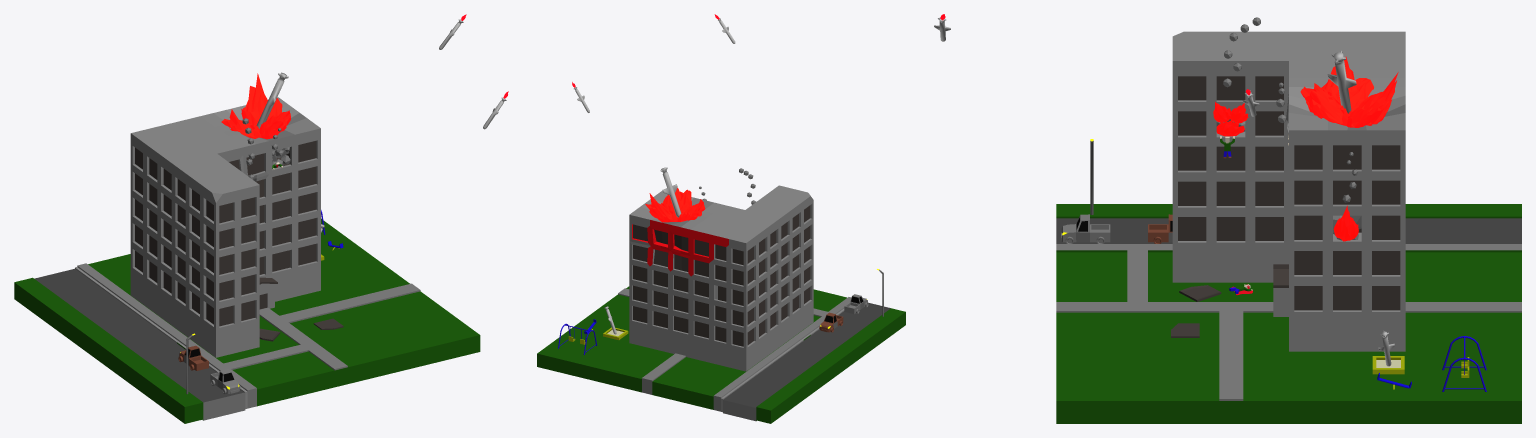
Rendered from building3.fbx.
The picture shows the model from 3 angles, left to right: view 1: azimuth 30°, elevation 25°; view 2: azimuth 150°, elevation 25°; view 3: azimuth 270°, elevation 25°; orthographic projection. The views are drawn at different scales.
Parts seen in each view (by area): view 1: Cube; view 2: Cube; view 3: Cube.
Part boxes in pixels (bbox=[...]): Cube: bbox=[14, 14, 508, 423]; Cube: bbox=[537, 14, 905, 423]; Cube: bbox=[934, 14, 1521, 423].
Size of the model in its own units: 476 by 382 by 505.
